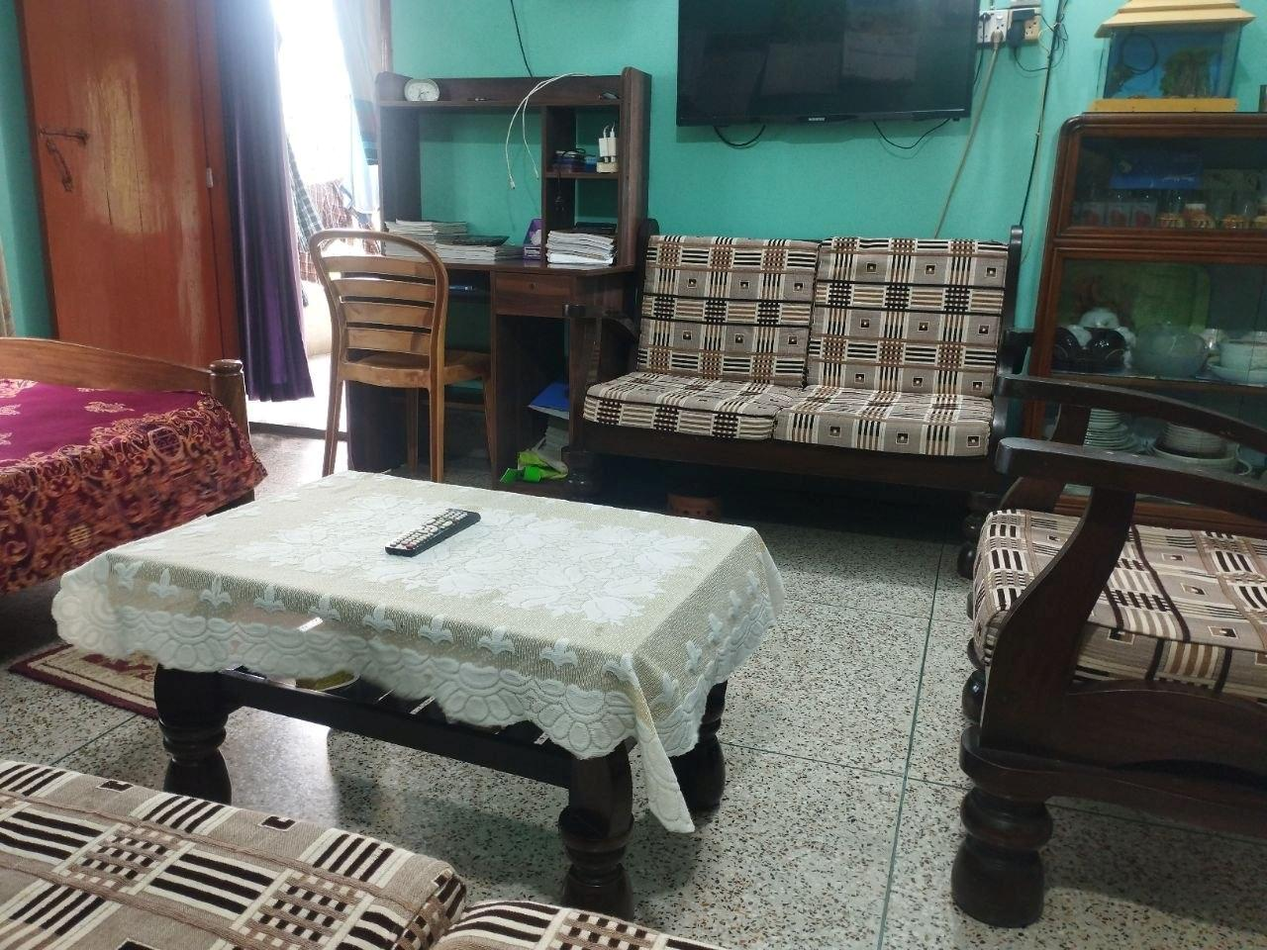Book: (369, 210, 617, 266)
Chair: (293, 210, 506, 476)
Clock: (397, 67, 446, 107)
Door: (16, 0, 250, 359)
Floor Mat: (0, 605, 256, 722)
Plate: (1053, 397, 1168, 462)
Remote: (379, 494, 480, 571)
Table: (89, 472, 763, 936), (345, 65, 644, 482)
